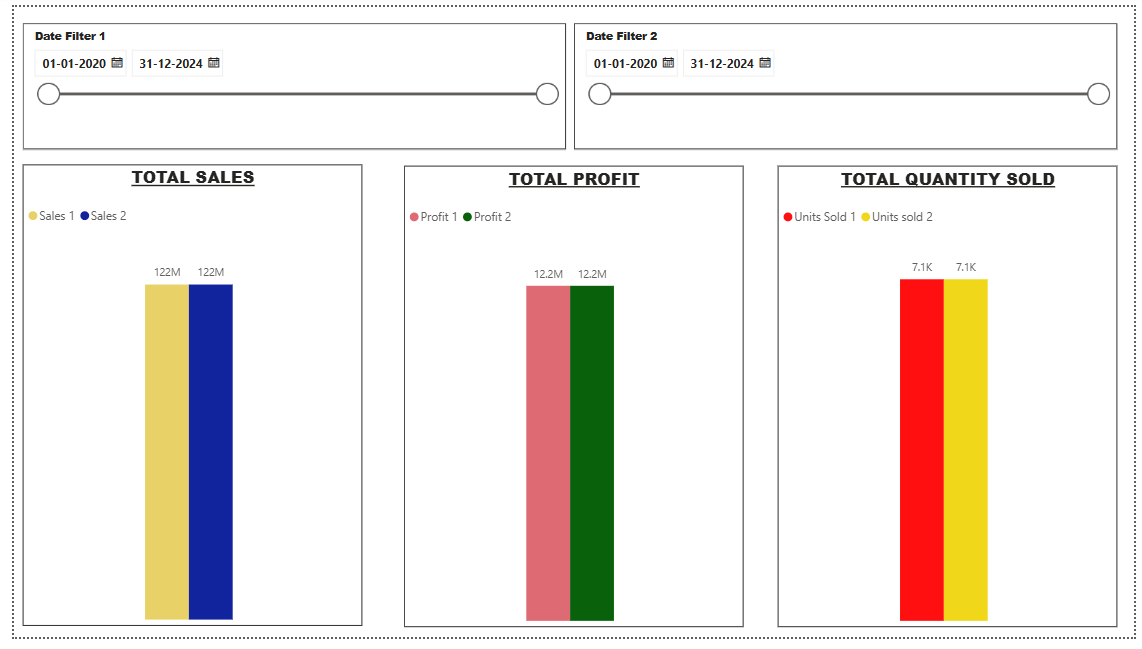

This screenshot's page, from the dashboard's own definition file:
{"tool":"powerbi","page":{"name":"requirement 4","canvas":[1280,720],"ordinal":2},"visuals":[{"type":"slicer","fields":{"Values":["Date Table 1.Date"]},"box":[9.8,18.3,621.2,144.3],"z":0},{"type":"slicer","fields":{"Values":["Date Table 2.Date"]},"box":[639.5,18.3,621.2,144.3],"z":1000},{"type":"clusteredColumnChart","title":"TOTAL SALES","fields":{"Y":["Sum(Fact table.Net_sales)","Date Table 1.Sum of net_sales"]},"box":[9.8,179.8,387.6,527],"z":2000},{"type":"clusteredColumnChart","title":"TOTAL PROFIT","fields":{"Y":["Sum(Fact table.Profit)","Measures Table.Total_Profit"]},"box":[445.1,181,387.6,527],"z":3000},{"type":"clusteredColumnChart","title":"TOTAL QUANTITY SOLD","fields":{"Y":["Sum(Fact table.Units Sold)","Measures Table.Total quantity sold"]},"box":[873.1,181,387.6,527],"z":4000}]}

Visuals, with their boxes in screenshot pixels (x1, y1, x2, y2), scaled from the page's 1280x720 canvas onto the 1142x649 screenshot:
slicer - Date Table 1.Date: 9/16/563/147
slicer - Date Table 2.Date: 571/16/1125/147
"TOTAL SALES" clusteredColumnChart: 9/162/355/637
"TOTAL PROFIT" clusteredColumnChart: 397/163/743/638
"TOTAL QUANTITY SOLD" clusteredColumnChart: 779/163/1125/638
